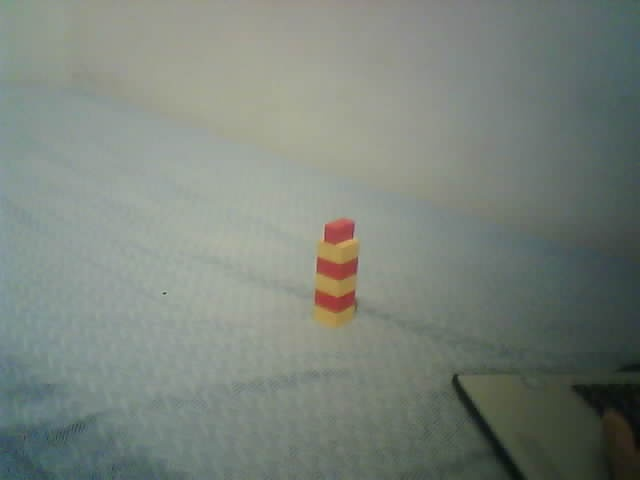lego: (311, 216, 360, 329)
